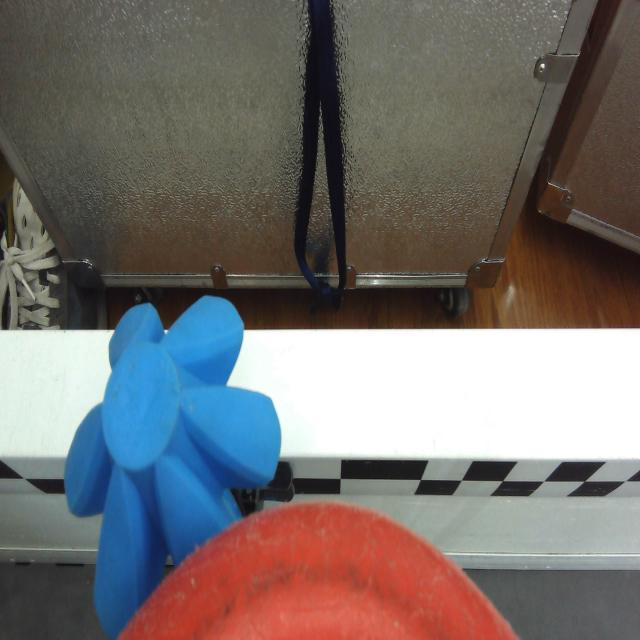zblue-Stake-Head: (67, 294, 282, 636)
